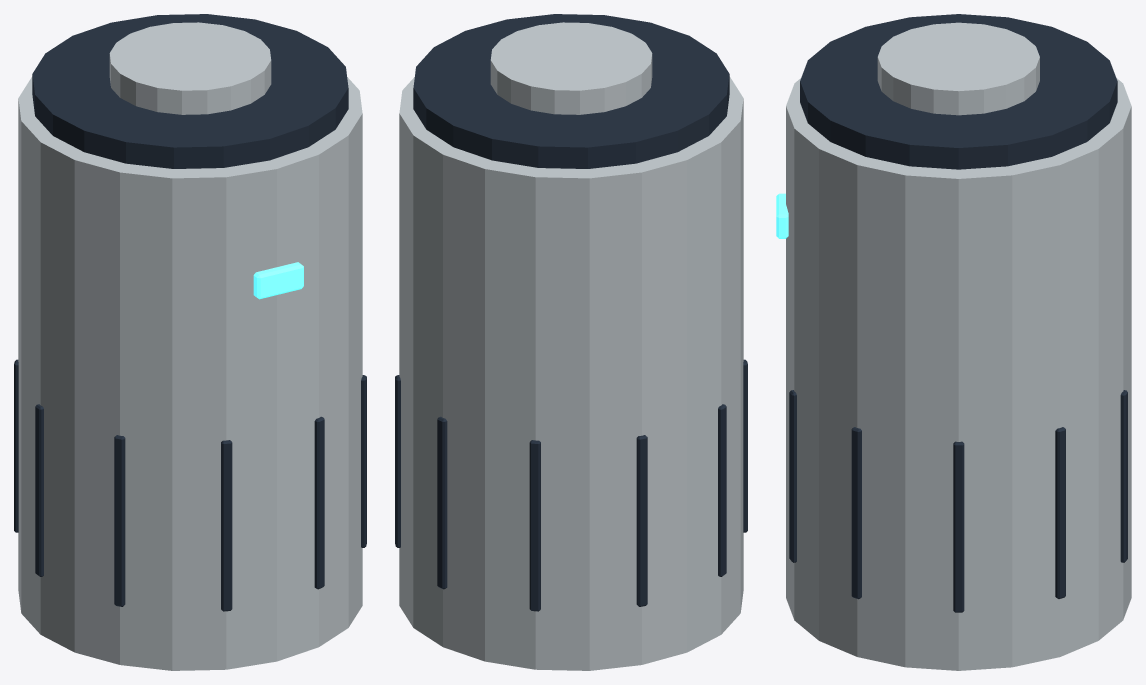
The model's file is utility_06.glb.
The picture shows the model from 3 angles, left to right: view 1: azimuth 30°, elevation 25°; view 2: azimuth 150°, elevation 25°; view 3: azimuth 270°, elevation 25°; orthographic projection.
Visible parts, largest first — view 1: PurifierBody, TopGrille, TopCap, Vent (×6), PurifierLight; view 2: PurifierBody, TopGrille, TopCap, Vent (×6); view 3: PurifierBody, TopGrille, TopCap, Vent (×5), PurifierLight.
Boxes of the visible parts, bbox=[...] form: PurifierBody: bbox=[18, 76, 362, 670]; TopGrille: bbox=[32, 14, 348, 168]; TopCap: bbox=[109, 22, 271, 114]; Vent (×6): bbox=[14, 359, 366, 611]; PurifierLight: bbox=[253, 262, 303, 299]; PurifierBody: bbox=[399, 76, 743, 670]; TopGrille: bbox=[413, 14, 729, 168]; TopCap: bbox=[490, 22, 652, 114]; Vent (×6): bbox=[395, 359, 747, 611]; PurifierBody: bbox=[786, 78, 1131, 670]; TopGrille: bbox=[800, 14, 1117, 169]; TopCap: bbox=[877, 22, 1039, 115]; Vent (×5): bbox=[789, 390, 1127, 612]; PurifierLight: bbox=[776, 193, 788, 238].
Bounding box in the file's own units: 0.5216 × 0.8802 × 0.5238.
